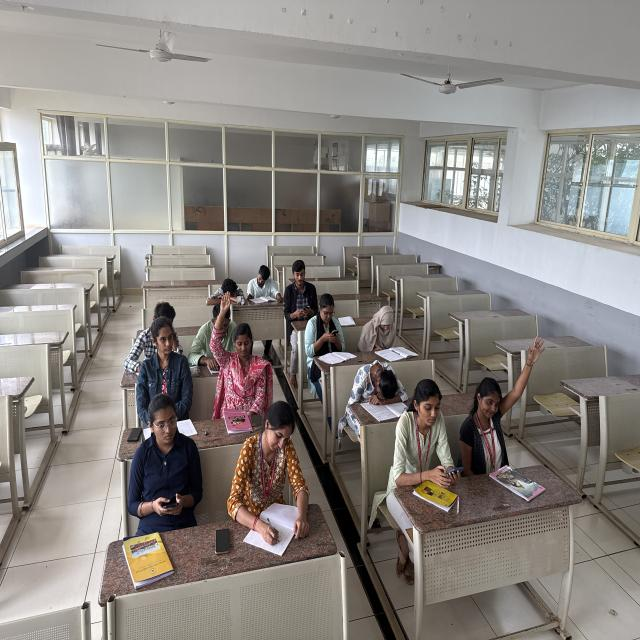Hand Rising: (452, 313, 556, 473), (205, 288, 276, 396)
Sleeping: (345, 348, 412, 417), (200, 266, 247, 308)
Using Phone: (127, 390, 207, 522), (391, 379, 470, 502), (301, 290, 355, 376), (285, 259, 318, 321)
Writing: (222, 397, 319, 558), (245, 257, 284, 306)
